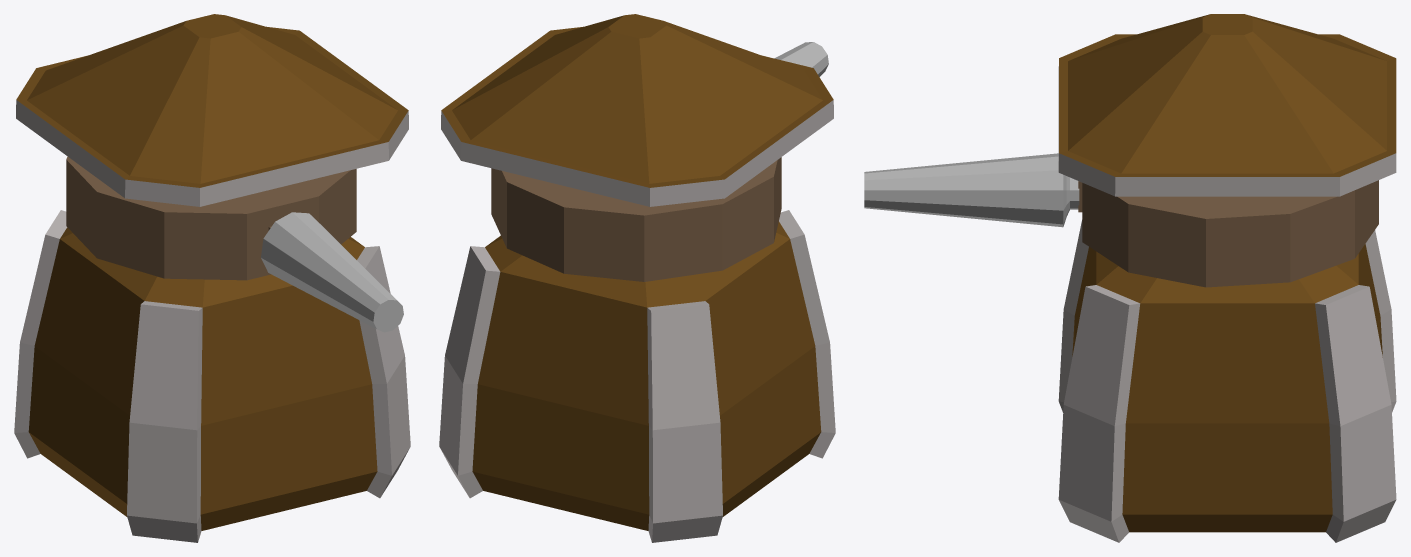
Rendered from tower_archer.glb.
The picture shows the model from 3 angles, left to right: view 1: azimuth 30°, elevation 25°; view 2: azimuth 150°, elevation 25°; view 3: azimuth 270°, elevation 25°; orthographic projection. The views are drawn at different scales.
Visible parts, largest first — view 1: Cube, Turret; view 2: Cube, Turret; view 3: Cube, Turret.
Part boxes in pixels (x1=…): Cube: x1=14, y1=14, x2=410, y2=542; Turret: x1=66, y1=156, x2=403, y2=332; Cube: x1=439, y1=14, x2=835, y2=542; Turret: x1=491, y1=42, x2=828, y2=281; Cube: x1=1058, y1=14, x2=1396, y2=542; Turret: x1=864, y1=153, x2=1378, y2=287.
Bounding box in the file's own units: 1.51 × 2.22 × 2.37.
